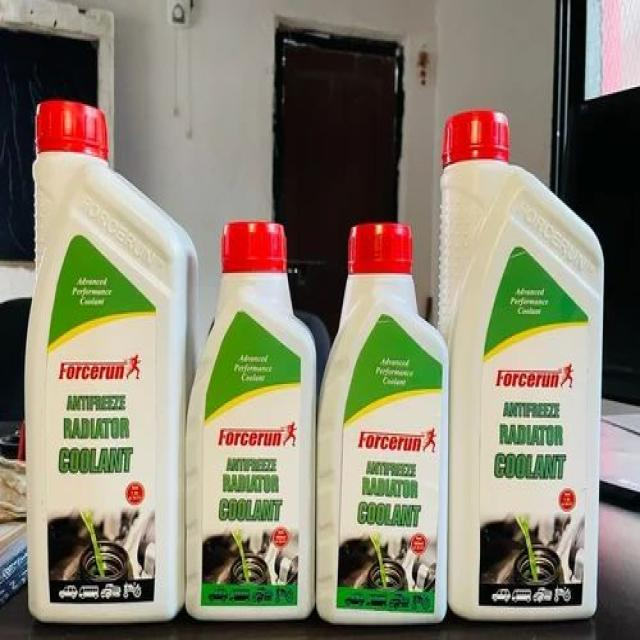coolant: (28, 92, 186, 628), (443, 109, 600, 622), (321, 206, 447, 628), (193, 218, 315, 623)
